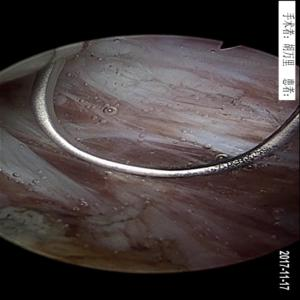film: (17, 51, 296, 267)
